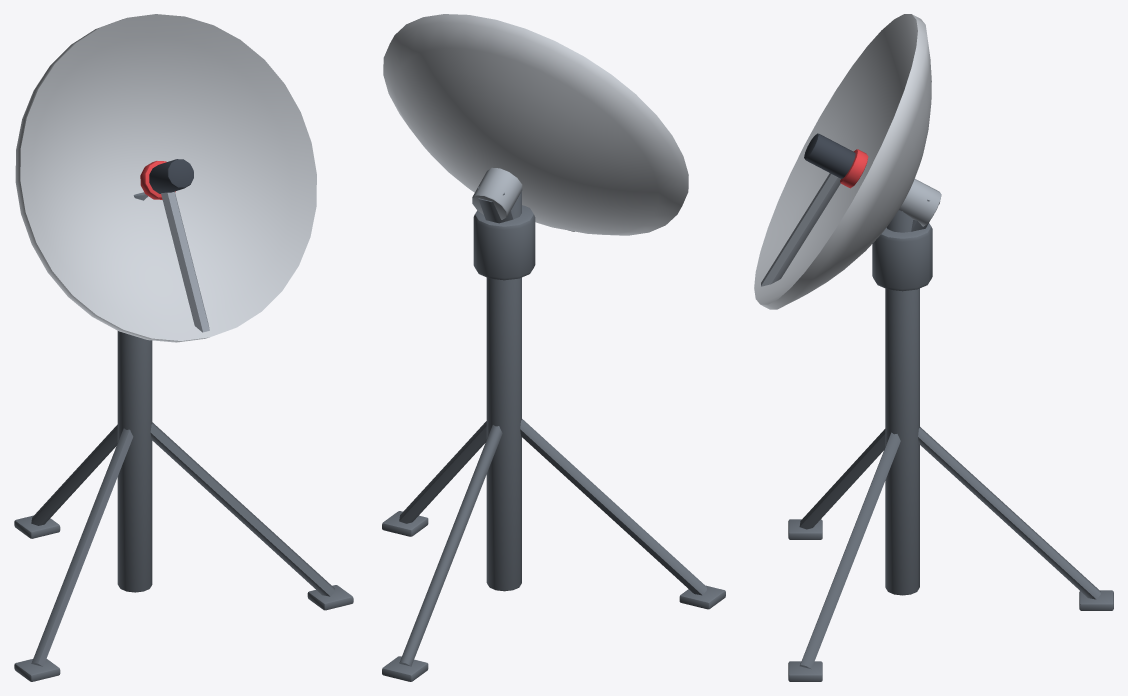
Rendered from antena_parabolica_pequena.glb.
The picture shows the model from 3 angles, left to right: view 1: azimuth 30°, elevation 25°; view 2: azimuth 150°, elevation 25°; view 3: azimuth 270°, elevation 25°; orthographic projection. The views are drawn at different scales.
Visible parts, largest first — view 1: antena_parabolica_pequena; view 2: antena_parabolica_pequena; view 3: antena_parabolica_pequena.
Boxes of the visible parts, x1,y1,x2,y2 form: antena_parabolica_pequena: (14, 14, 353, 681); antena_parabolica_pequena: (382, 14, 725, 681); antena_parabolica_pequena: (754, 14, 1113, 681).
Size of the model in its own units: 0.8594 by 1.47 by 0.8343.
1 material, 1 textured.
